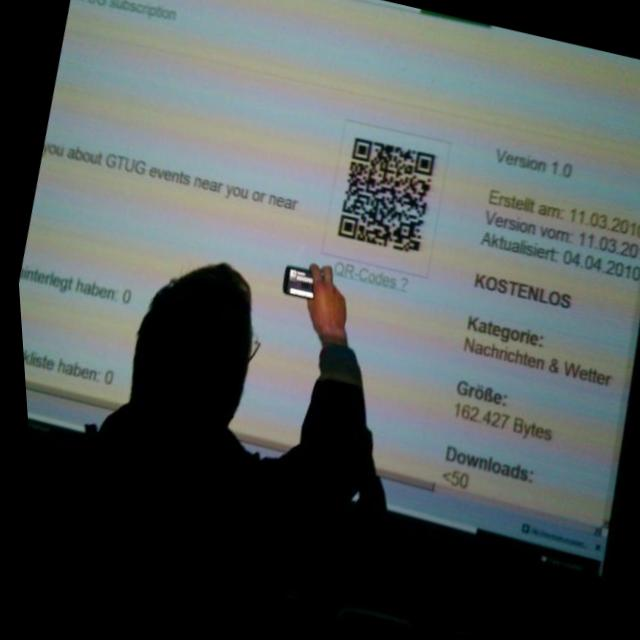qrcode: (329, 137, 439, 258)
